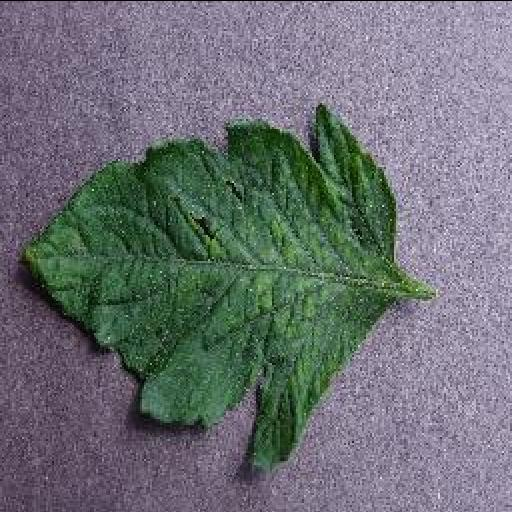Mosaic Virus: (17, 102, 399, 470)
